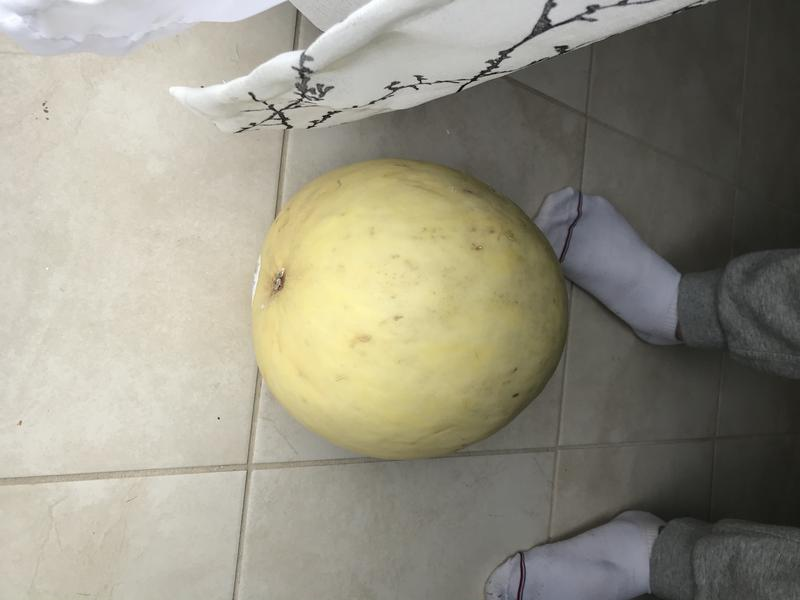honeydew: (245, 152, 574, 469)
